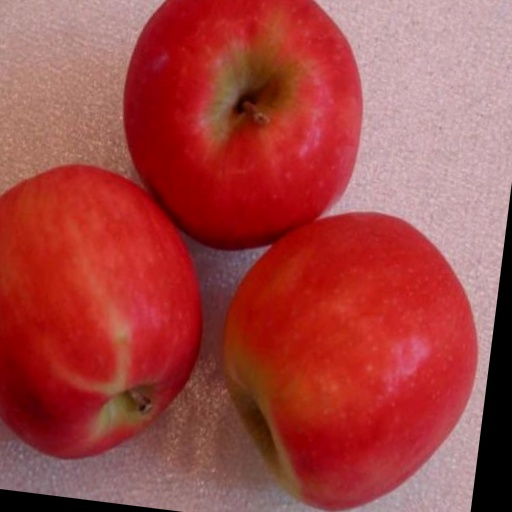fruit: (224, 213, 477, 509), (0, 166, 201, 458)
